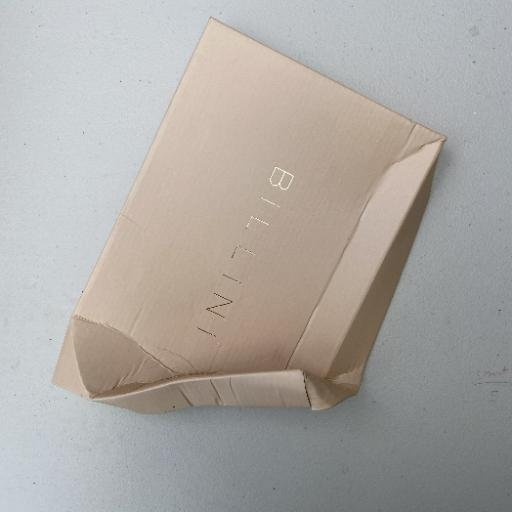Cardboard: (50, 16, 448, 415)
